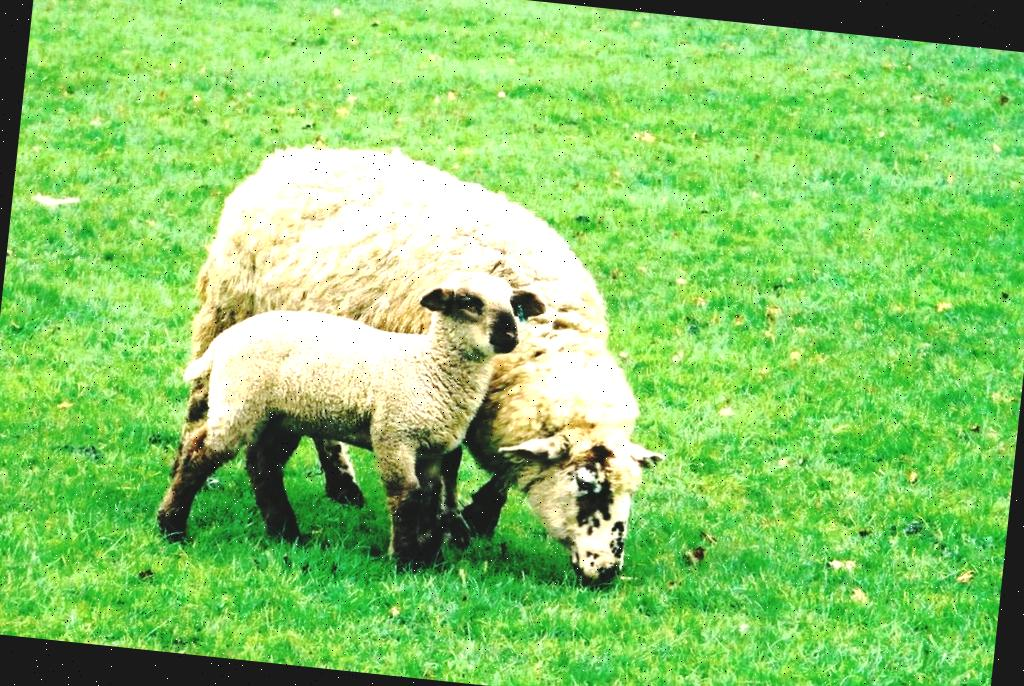Sheep: (162, 130, 696, 596), (144, 241, 549, 578)
